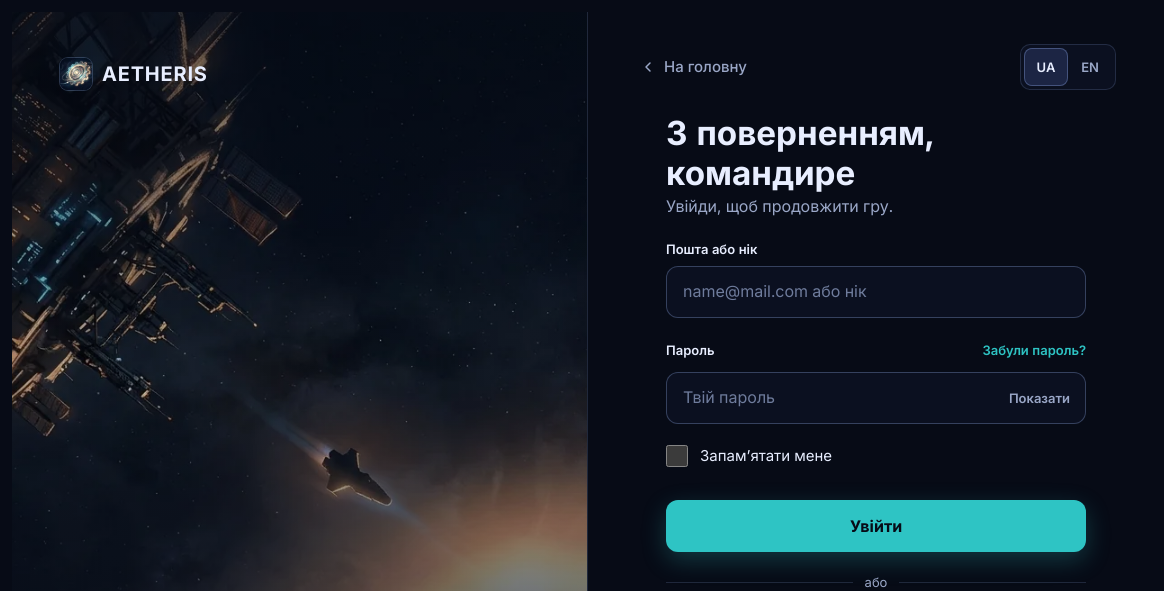
Test case: LoginPage › opens the account page when the sign-in cancelled a deletion
The width and height of the screenshot is (1164, 591).
Type "pilot@example.test" into the field labelled "Пошта або нік".
click(876, 292); type("pilot@example.test")  # box [666,266,1086,318]
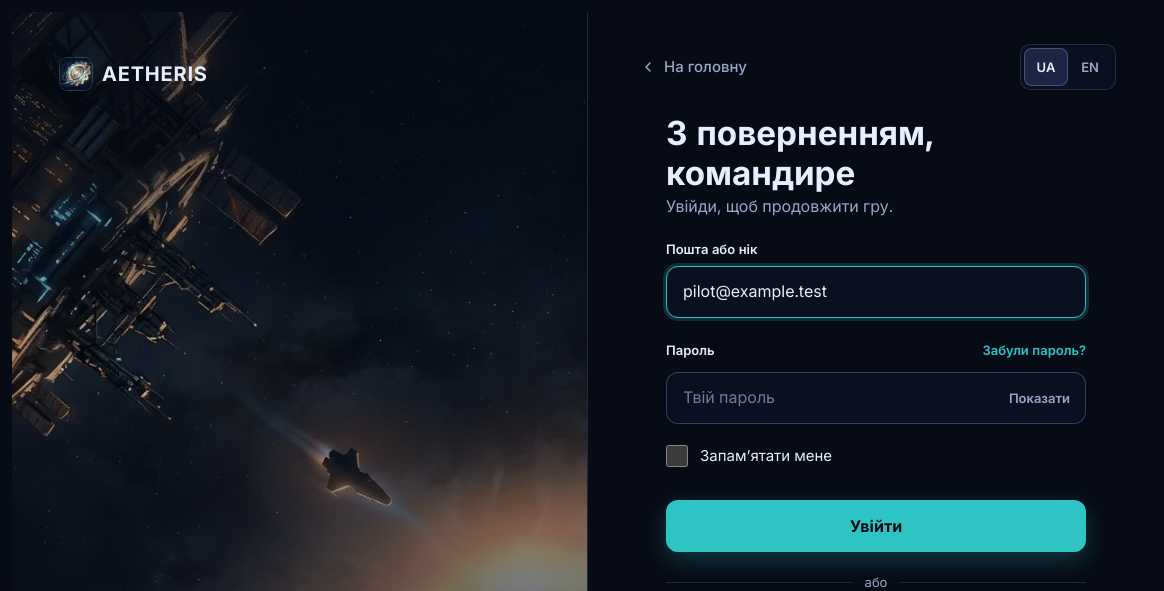
Type "Violet-harbor-lantern-42" into the password field labelled "Пароль".
click(876, 398); type("Violet-harbor-lantern-42")  # box [666,372,1086,424]
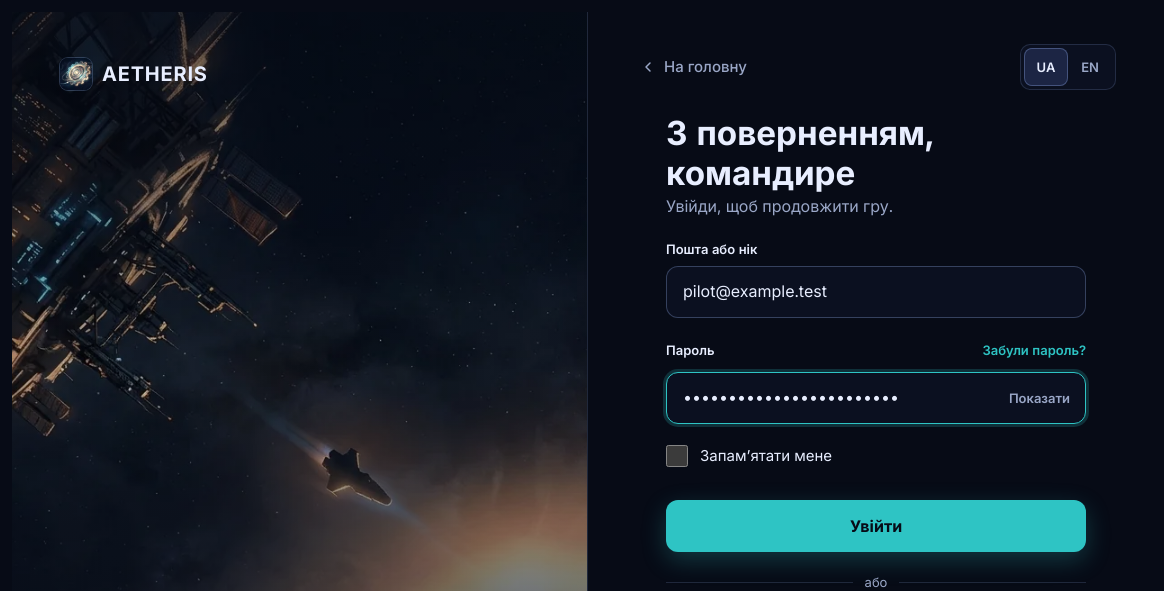
Click the button "Увійти".
click(876, 526)  # box [666,500,1086,552]
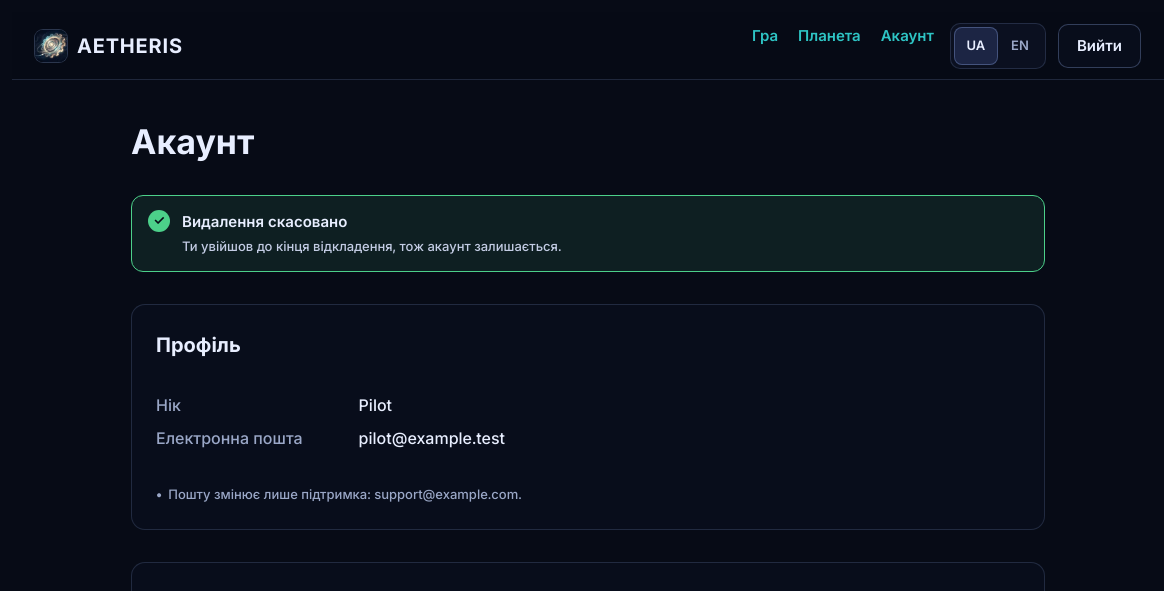
expect the text "Видалення скасовано" is shown: met, box [182,212,347,231]
